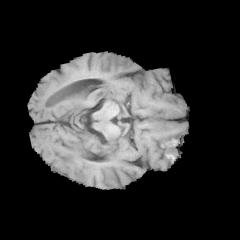glioma: (45, 145, 99, 180)
